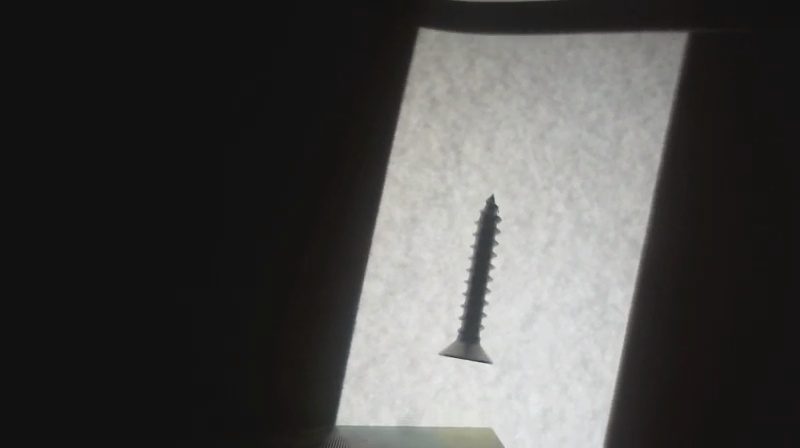S001: (433, 192, 507, 366)
